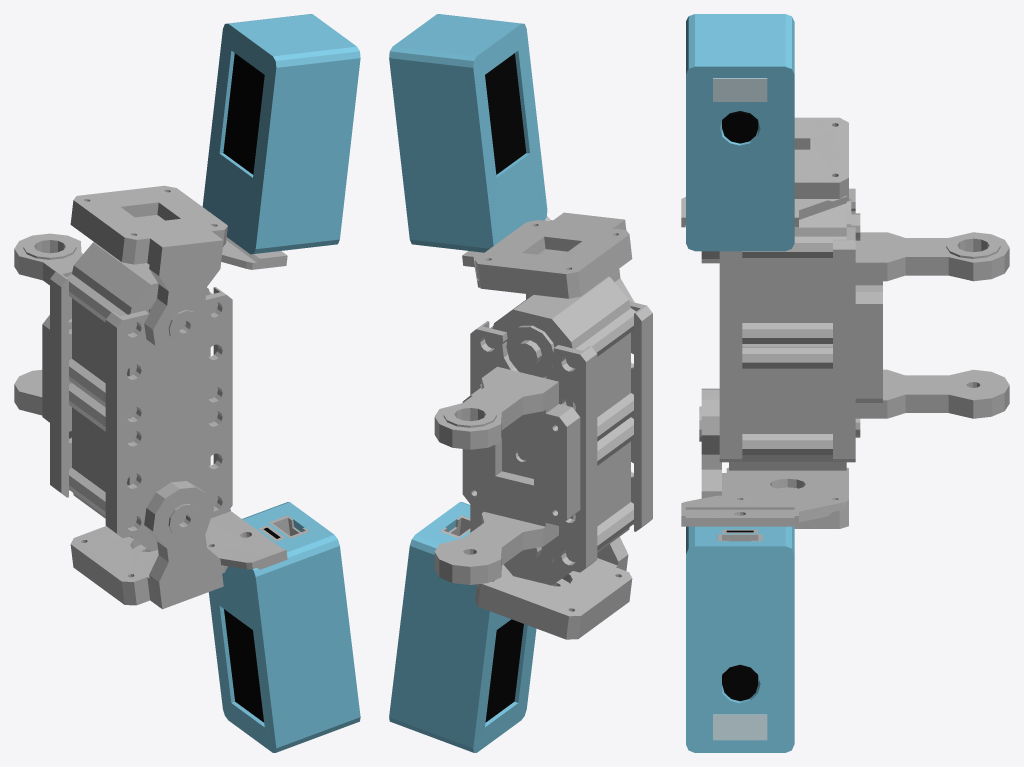
The model's file is head-neck-p_mesh.glb.
3 views of the same model, side by side, from view 1: azimuth 30°, elevation 25°; view 2: azimuth 150°, elevation 25°; view 3: azimuth 270°, elevation 25° (orthographic).
Parts seen in each view (by area): view 1: base2_M1KShape13, base2_M1KShape20, base2_M1KShape4, base2_M1KShape5, base2_M1KShape7, base2_M1KShape9, base2_M1KShape8, base2_M1KShape6, base2_M1KShape10, base2_M1KShape3, base2_M1KShape14, base2_M1KShape12 (+5 smaller); view 2: base2_M1KShape13, base2_M1KShape20, base2_M1KShape5, base2_M1KShape0, base2_M1KShape9, base2_M1KShape3, base2_M1KShape10, base2_M1KShape2, base2_M1KShape6, base2_M1KShape1, base2_M1KShape4, base2_M1KShape14 (+3 smaller); view 3: base2_M1KShape13, base2_M1KShape20, base2_M1KShape6, base2_M1KShape5, base2_M1KShape2, base2_M1KShape1, base2_M1KShape3, base2_M1KShape4, base2_M1KShape12, base2_M1KShape9, base2_M1KShape10, base2_M1KShape0 (+6 smaller).
Boxes of the visible parts, x1,y1,x2,y2 form: base2_M1KShape13: (202, 14, 360, 254); base2_M1KShape20: (208, 502, 360, 752); base2_M1KShape4: (105, 287, 232, 538); base2_M1KShape5: (66, 242, 217, 418); base2_M1KShape7: (144, 231, 223, 358); base2_M1KShape9: (70, 185, 227, 264); base2_M1KShape8: (144, 481, 223, 609); base2_M1KShape6: (69, 383, 217, 551); base2_M1KShape10: (70, 526, 227, 605); base2_M1KShape3: (50, 267, 73, 497); base2_M1KShape14: (223, 53, 264, 174); base2_M1KShape12: (205, 509, 287, 569); base2_M1KShape13: (389, 14, 547, 252); base2_M1KShape20: (389, 502, 536, 752); base2_M1KShape5: (485, 276, 635, 441); base2_M1KShape0: (462, 387, 580, 525); base2_M1KShape9: (475, 220, 632, 298); base2_M1KShape3: (470, 321, 597, 572); base2_M1KShape10: (475, 560, 632, 639); base2_M1KShape2: (434, 366, 558, 449); base2_M1KShape6: (503, 417, 633, 585); base2_M1KShape1: (434, 507, 558, 584); base2_M1KShape4: (526, 294, 652, 531); base2_M1KShape14: (485, 53, 526, 174); base2_M1KShape13: (686, 14, 794, 251); base2_M1KShape20: (686, 526, 794, 752); base2_M1KShape6: (729, 344, 860, 470); base2_M1KShape5: (742, 198, 860, 343); base2_M1KShape2: (855, 232, 1009, 285); base2_M1KShape1: (855, 369, 1009, 418); base2_M1KShape3: (833, 188, 855, 462); base2_M1KShape4: (719, 251, 742, 462); base2_M1KShape12: (681, 493, 846, 526); base2_M1KShape9: (794, 117, 848, 201); base2_M1KShape10: (726, 467, 848, 528); base2_M1KShape0: (855, 285, 882, 402).
Size of the model in its own units: 0.0591 by 0.1725 by 0.0725.
